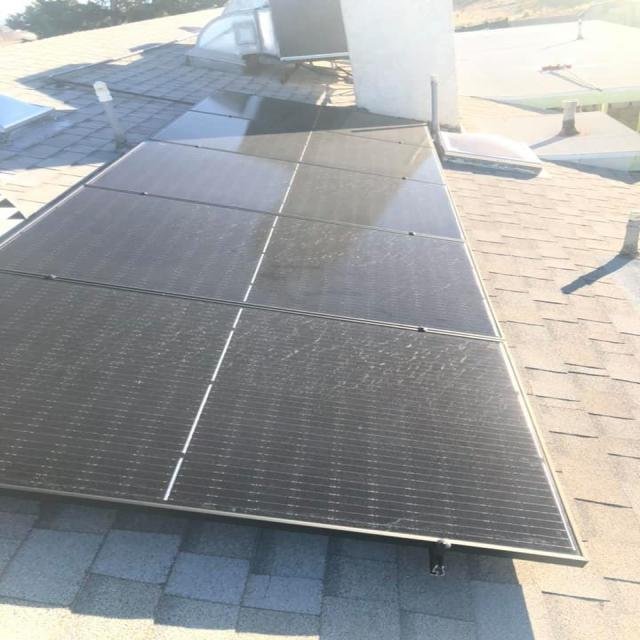dust-solar-panel: (0, 88, 583, 556)
